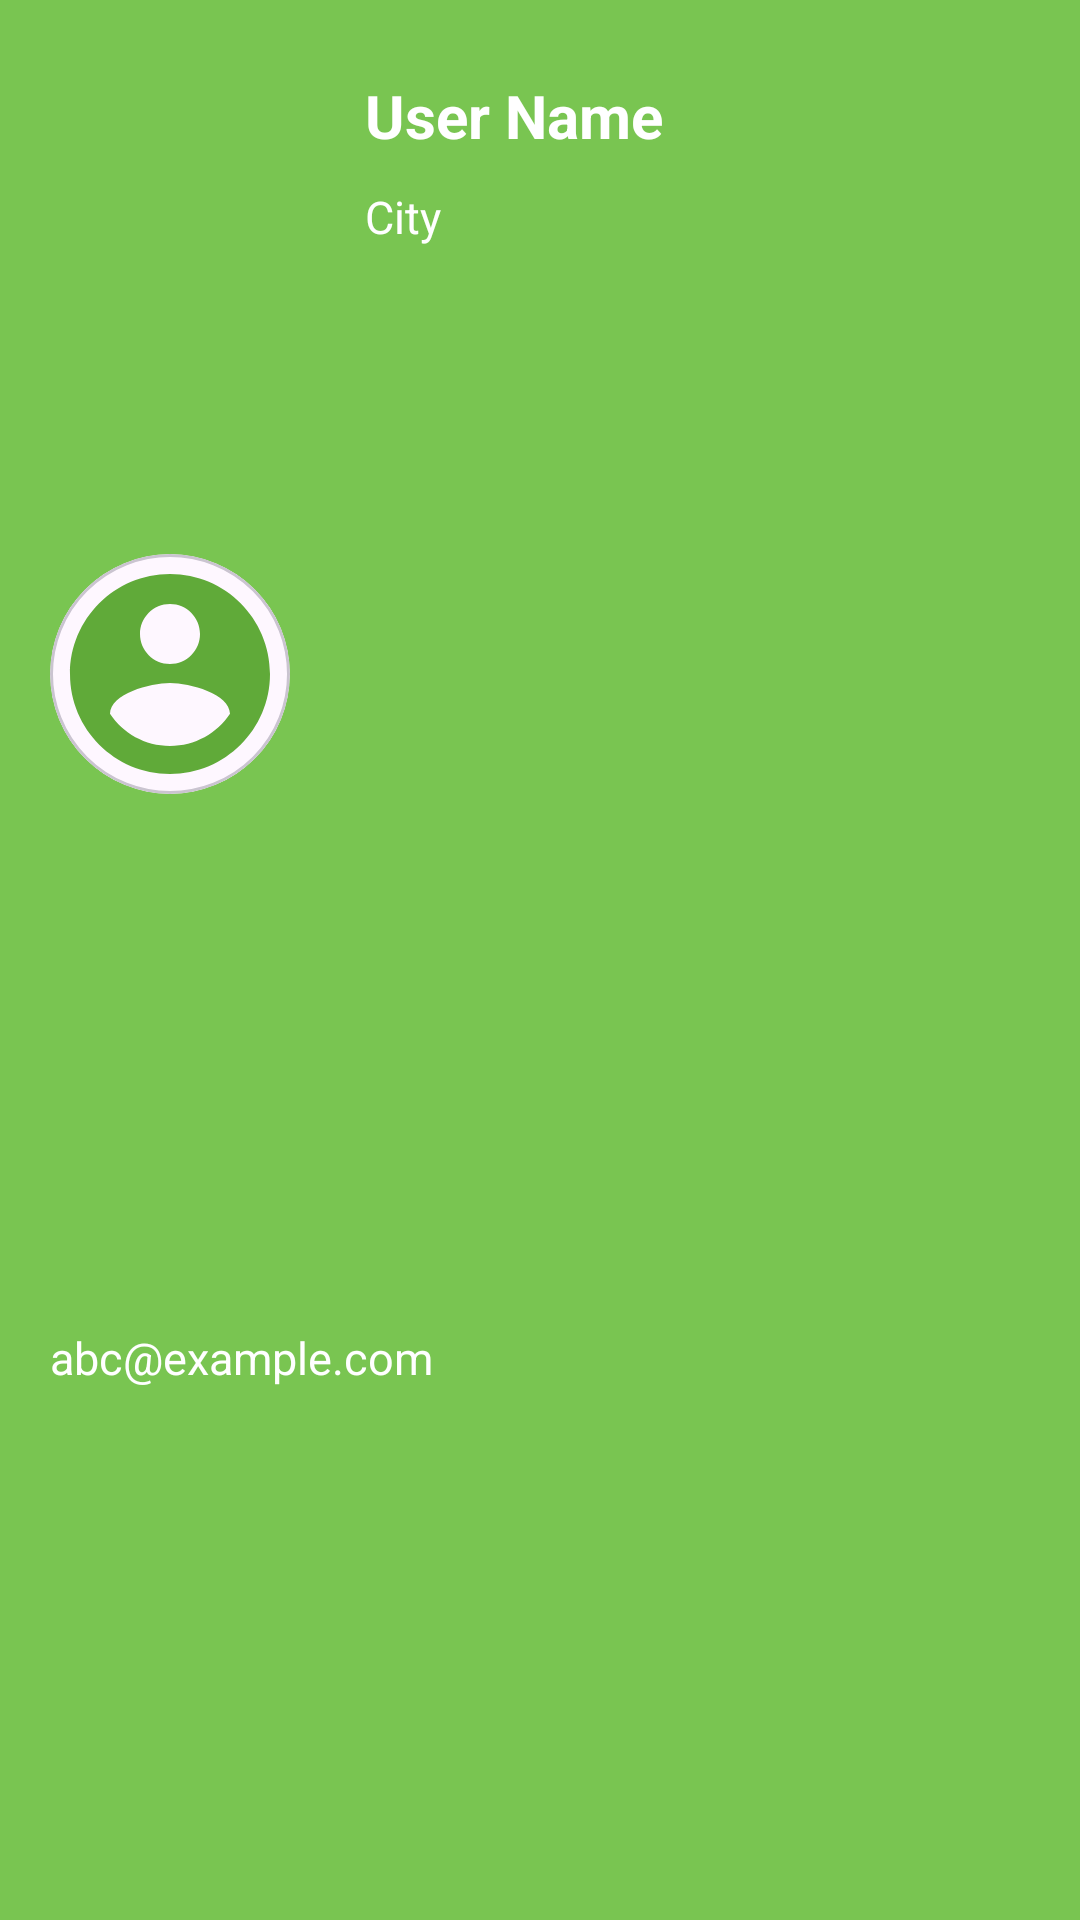

Icon bounding boxes for this 1080w x 1920h phone screenshot, format (x1,y1,x2,y2):
user profile: (50,554,290,794)
